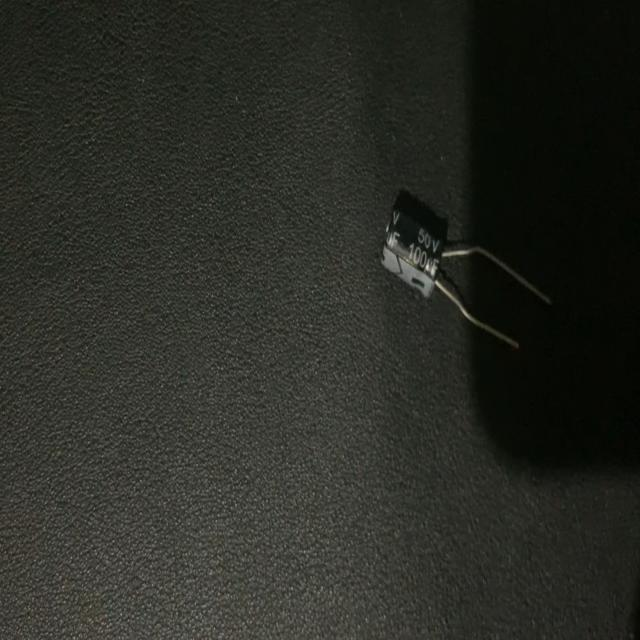capacitor: (378, 194, 553, 353)
